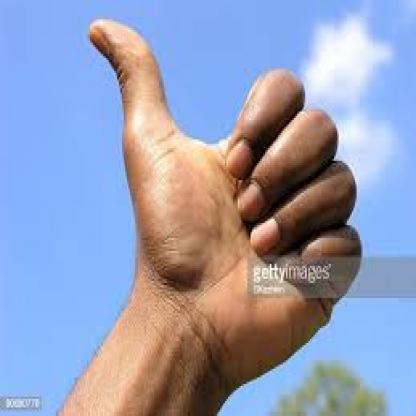thumb_up: (86, 17, 357, 372)
